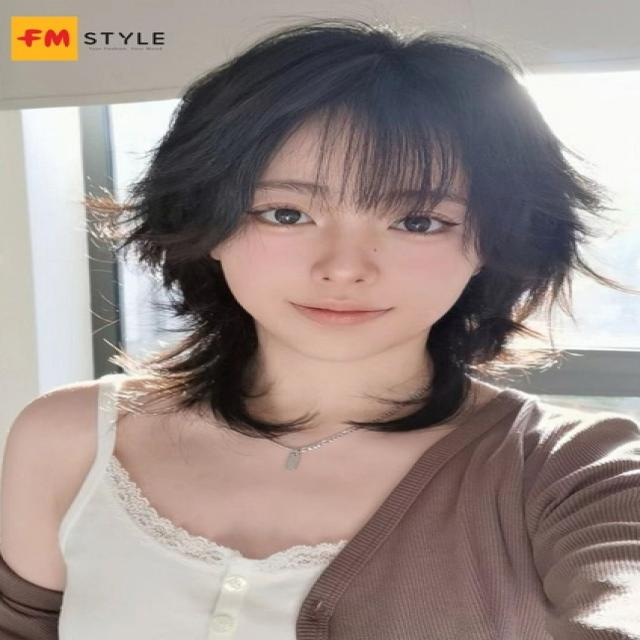Nonhelmet: (136, 9, 564, 372)
